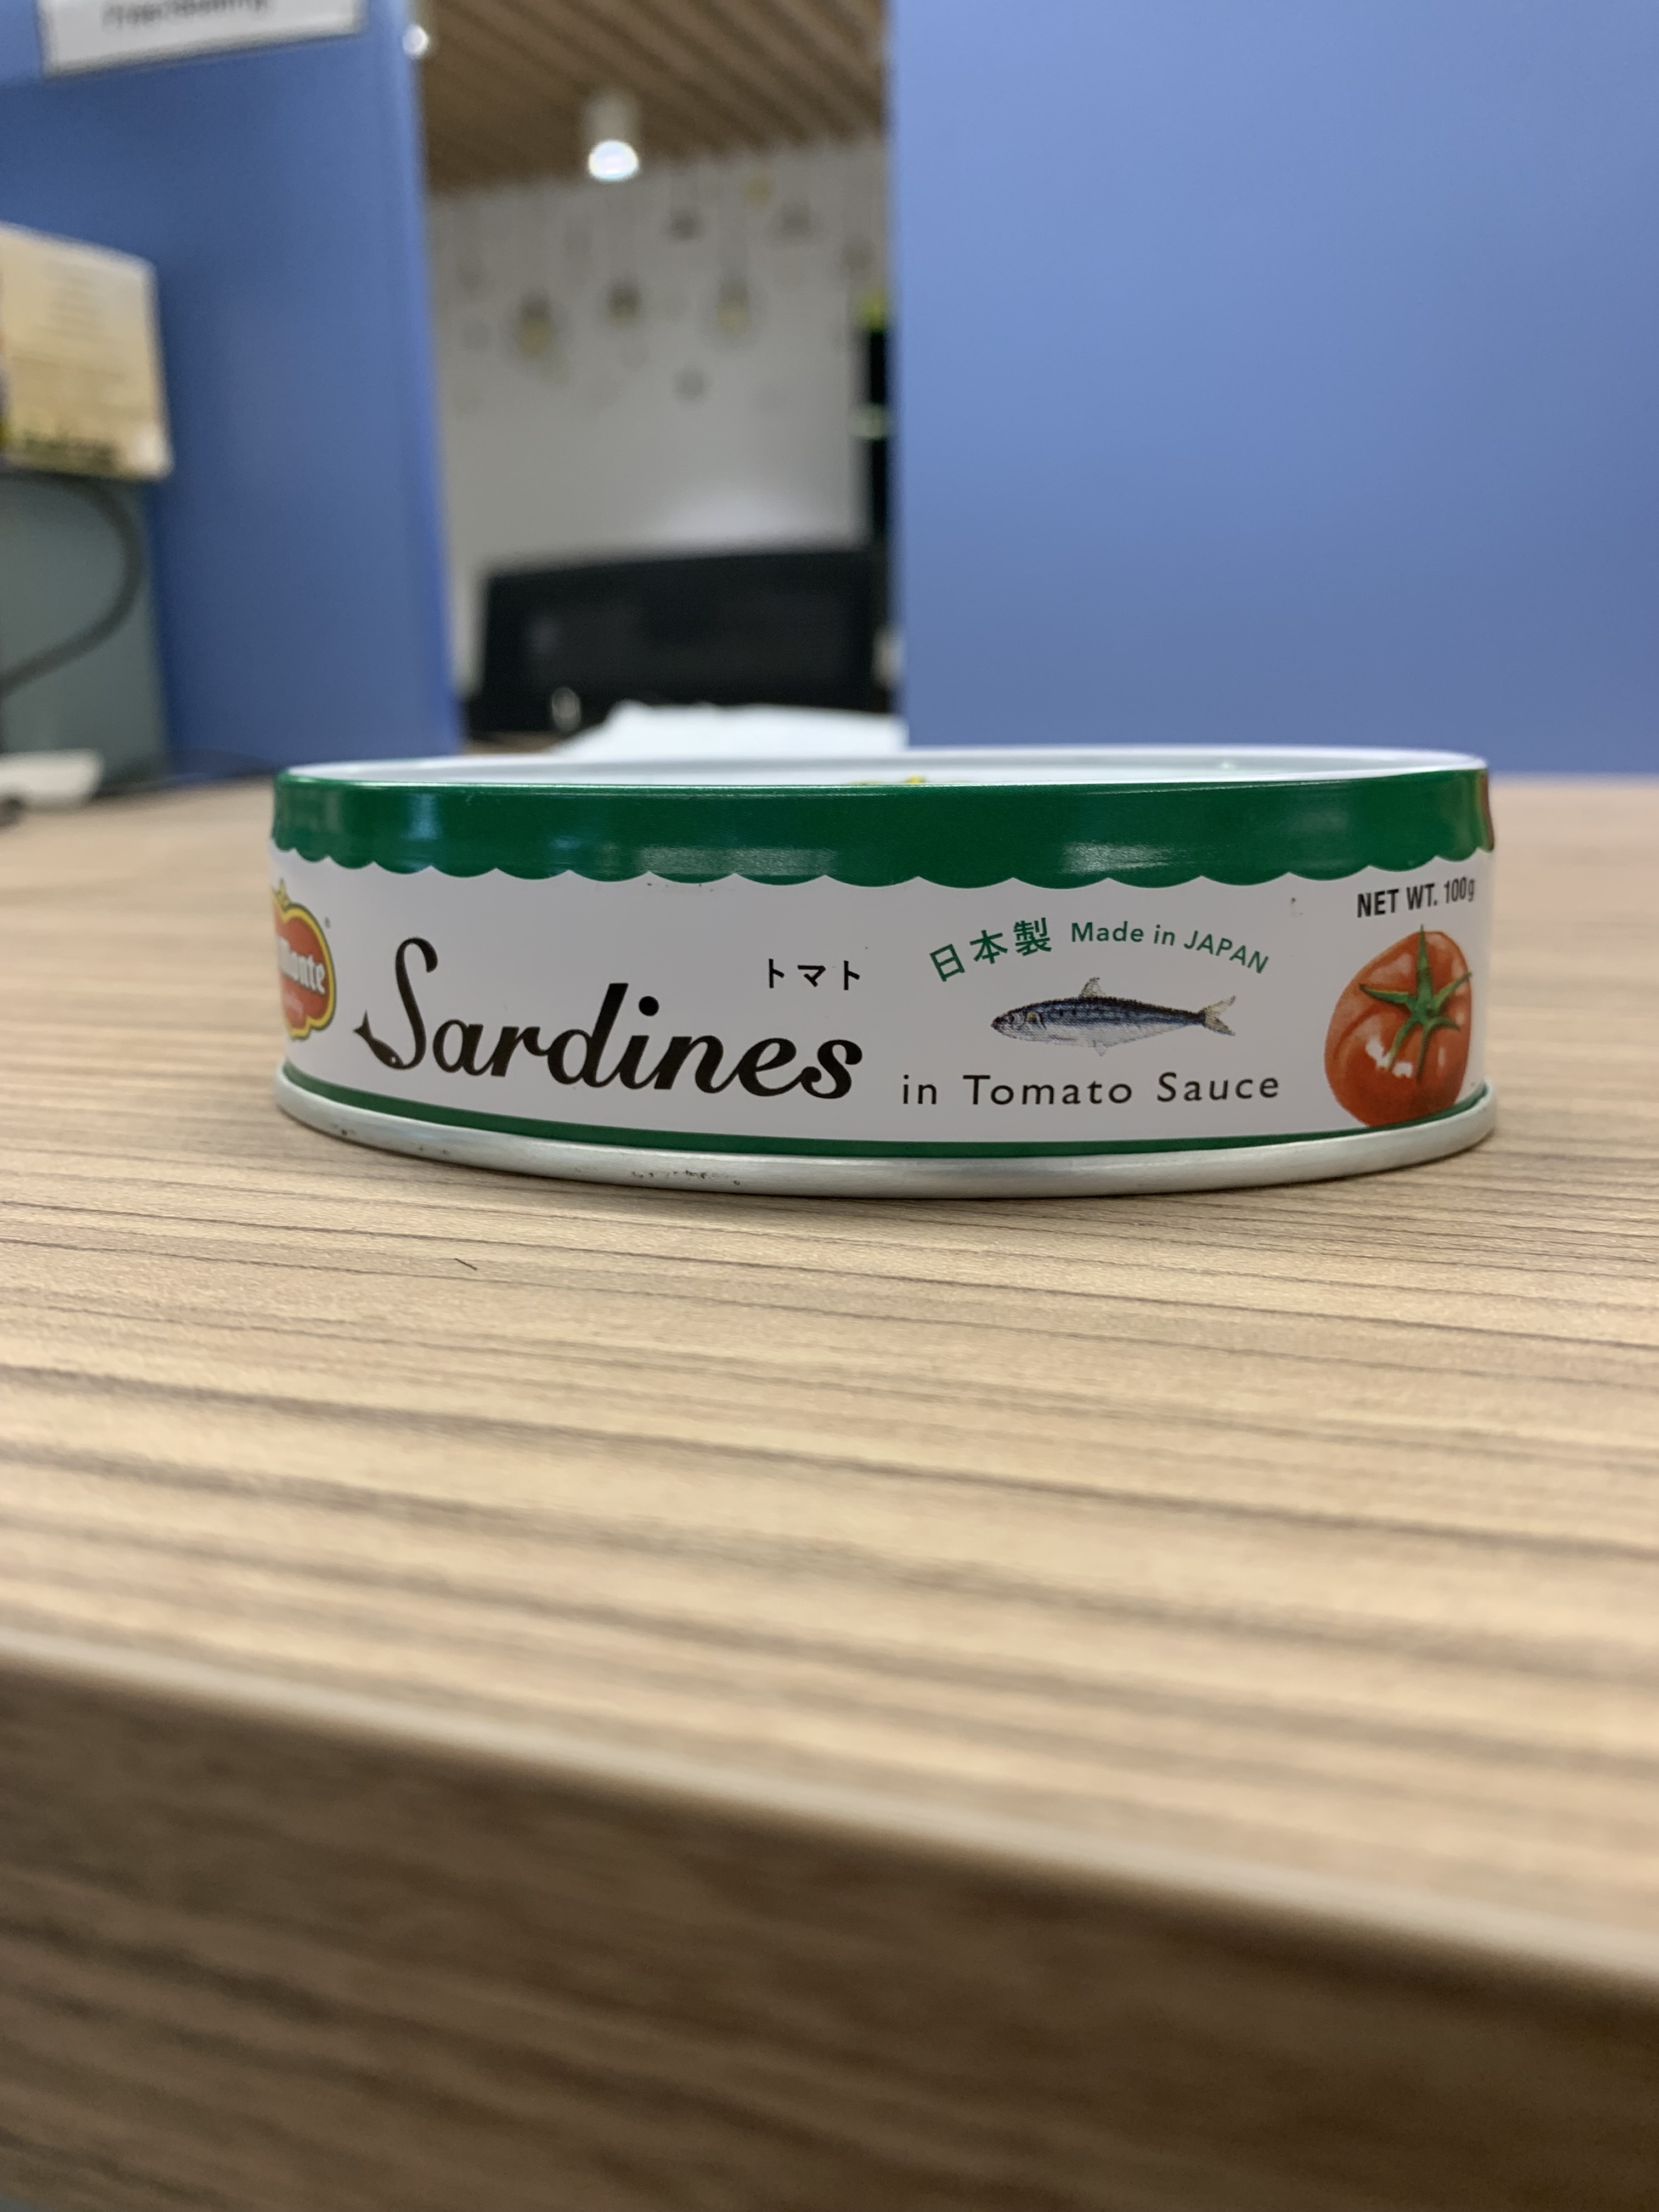sardines: (254, 737, 1521, 1188)
